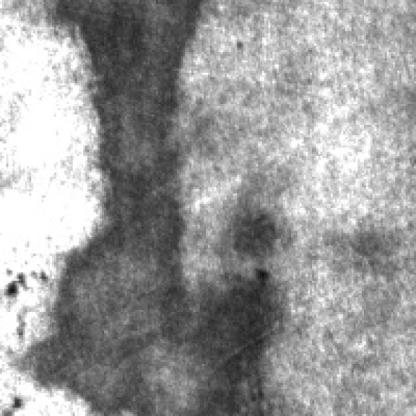patches: (42, 0, 212, 414), (189, 258, 291, 414), (219, 187, 294, 267)
